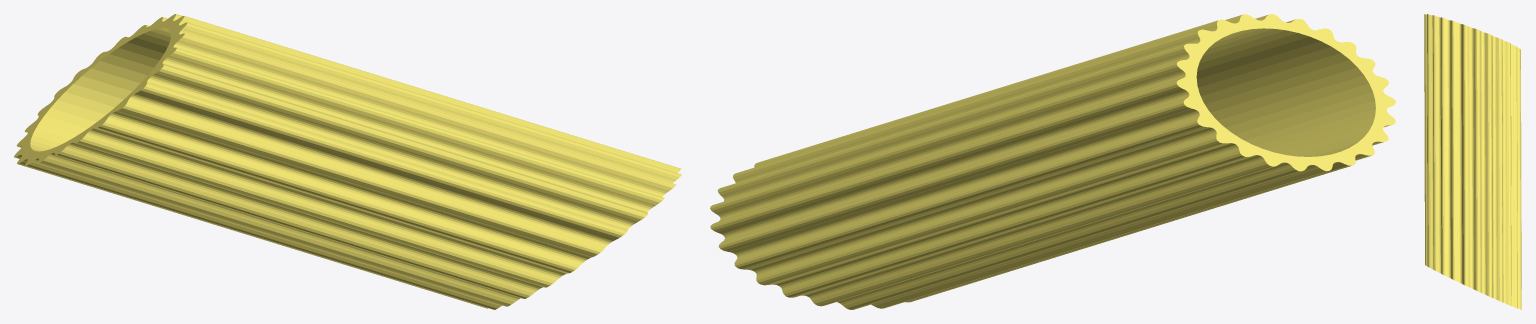
Rendered from Penne.gltf.
The picture shows the model from 3 angles, left to right: view 1: azimuth 30°, elevation 25°; view 2: azimuth 150°, elevation 25°; view 3: azimuth 270°, elevation 25°; orthographic projection. The views are drawn at different scales.
Visible parts, largest first — view 1: Penne; view 2: Penne; view 3: Penne.
Boxes of the visible parts, x1,y1,x2,y2 form: Penne: (14, 14, 681, 309); Penne: (710, 14, 1395, 309); Penne: (1424, 14, 1521, 309).
Bounding box in the file's own units: 3.53 × 1.83 × 0.8618.
